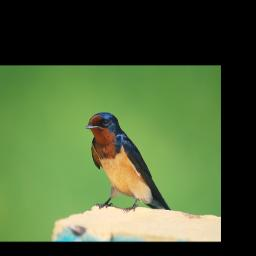Swallow: (85, 111, 172, 214)
